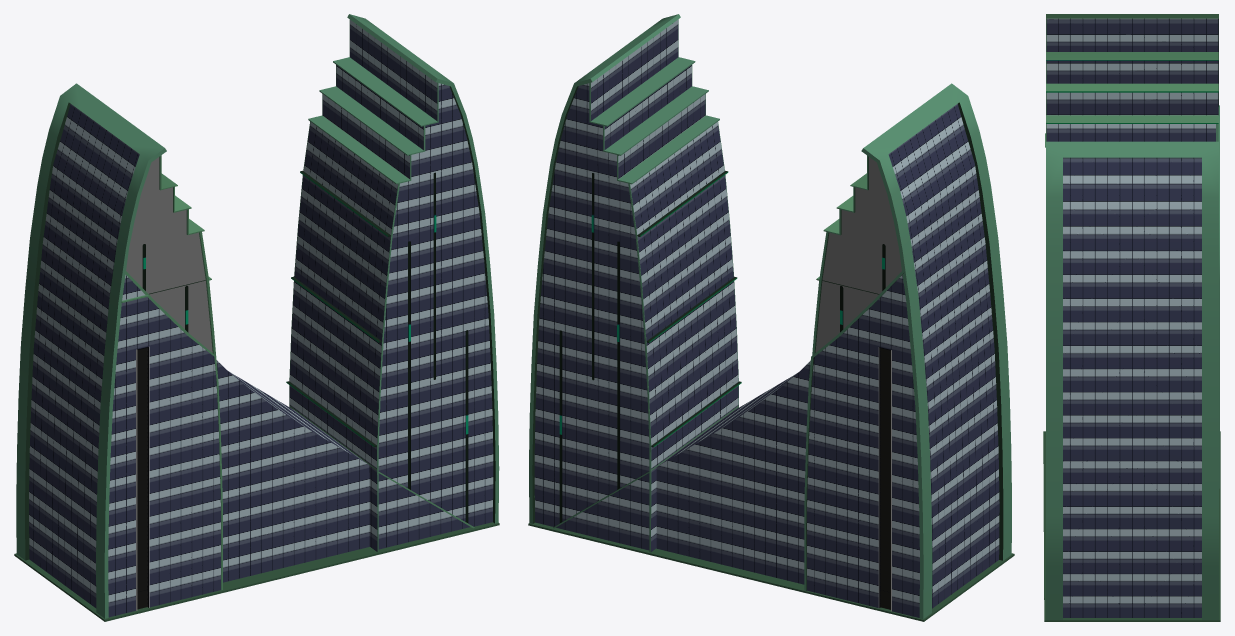
File: Building_Kyowon_002_2st_L0.fbx
3 renders of one model, left to right at view 1: azimuth 30°, elevation 25°; view 2: azimuth 150°, elevation 25°; view 3: azimuth 270°, elevation 25°, orthographic. The views are drawn at different scales.
Visible parts, largest first — view 1: Building_Kyowon_002_2st_L0; view 2: Building_Kyowon_002_2st_L0; view 3: Building_Kyowon_002_2st_L0.
Boxes of the visible parts, box(x1,y1,x2,y2) form: Building_Kyowon_002_2st_L0: box(14, 14, 499, 621); Building_Kyowon_002_2st_L0: box(528, 14, 1014, 621); Building_Kyowon_002_2st_L0: box(1043, 14, 1220, 621).
Size of the model in its own units: 72.48 by 28.73 by 80.75.
